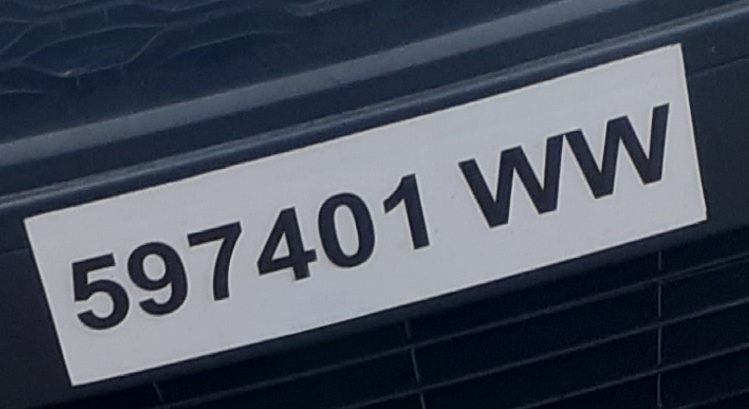0: (315, 184, 378, 277)
1: (379, 163, 435, 255)
4: (252, 196, 319, 286)
5: (62, 246, 131, 339)
7: (184, 210, 253, 305)
9: (127, 229, 191, 319)
w: (449, 125, 565, 232), (566, 96, 675, 205)
